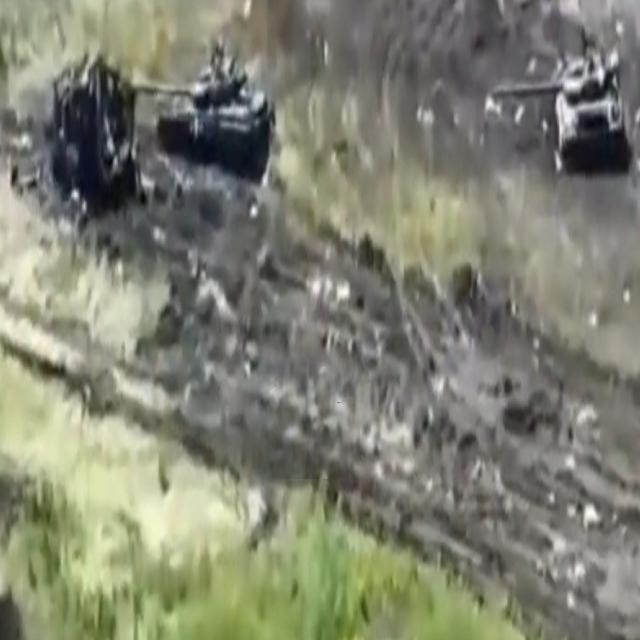Destroyed: (42, 44, 130, 212)
MBT: (487, 28, 628, 165), (133, 42, 279, 174)
